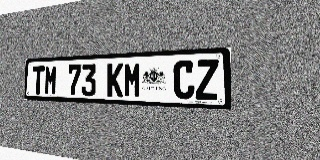3: (81, 64, 96, 96)
7: (67, 64, 81, 96)
C: (173, 60, 195, 99)
K: (107, 63, 124, 97)
M: (124, 62, 142, 98), (44, 65, 57, 95)
T: (32, 66, 44, 95)
Z: (195, 59, 218, 100)
